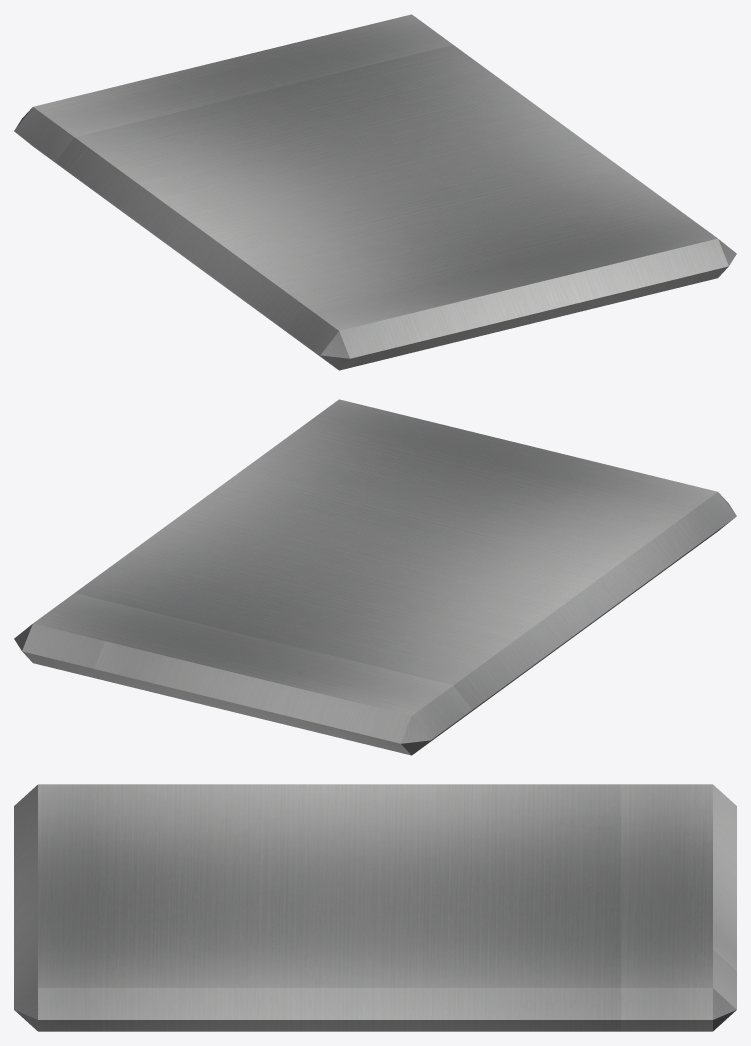
Rendered from fin.glb.
3 views of the same model, one above another, from view 1: azimuth 30°, elevation 25°; view 2: azimuth 150°, elevation 25°; view 3: azimuth 270°, elevation 25° (orthographic). The views are drawn at different scales.
Parts seen in each view (by area): view 1: Cube; view 2: Cube; view 3: Cube.
Boxes of the visible parts, <box> form: Cube: <box>14,14,736,370</box>; Cube: <box>14,399,736,755</box>; Cube: <box>14,784,736,1031</box>.
Size of the model in its own units: 0.11 by 0.01 by 0.15.
Materials: 1 (1 with a texture image).
